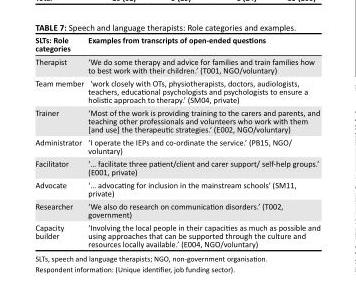table: (34, 34, 319, 248)
table column: (85, 34, 319, 248), (34, 34, 85, 248)
table column header: (34, 34, 319, 54)
table row: (34, 105, 319, 135), (34, 76, 319, 105), (34, 220, 319, 248), (34, 54, 319, 76), (34, 177, 319, 199), (34, 135, 319, 156), (34, 156, 319, 177), (34, 199, 319, 220), (34, 34, 319, 54)
